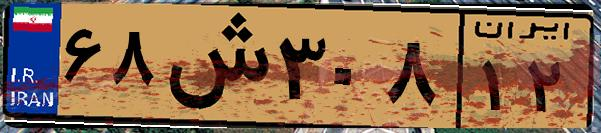0: (330, 28, 385, 110)
1: (475, 38, 525, 113)
2: (525, 38, 570, 115)
3: (270, 28, 330, 110)
6: (57, 26, 110, 100)
8: (385, 28, 445, 110), (110, 28, 158, 98)
ش: (158, 12, 270, 120)
